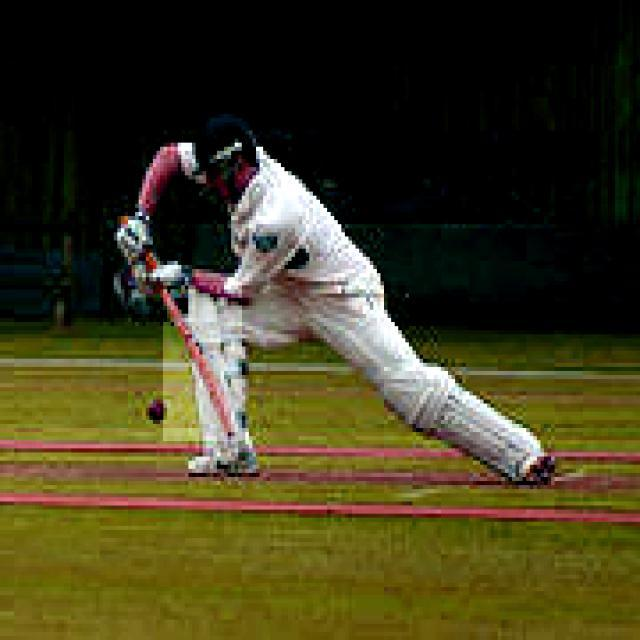bat: (161, 288, 247, 440)
